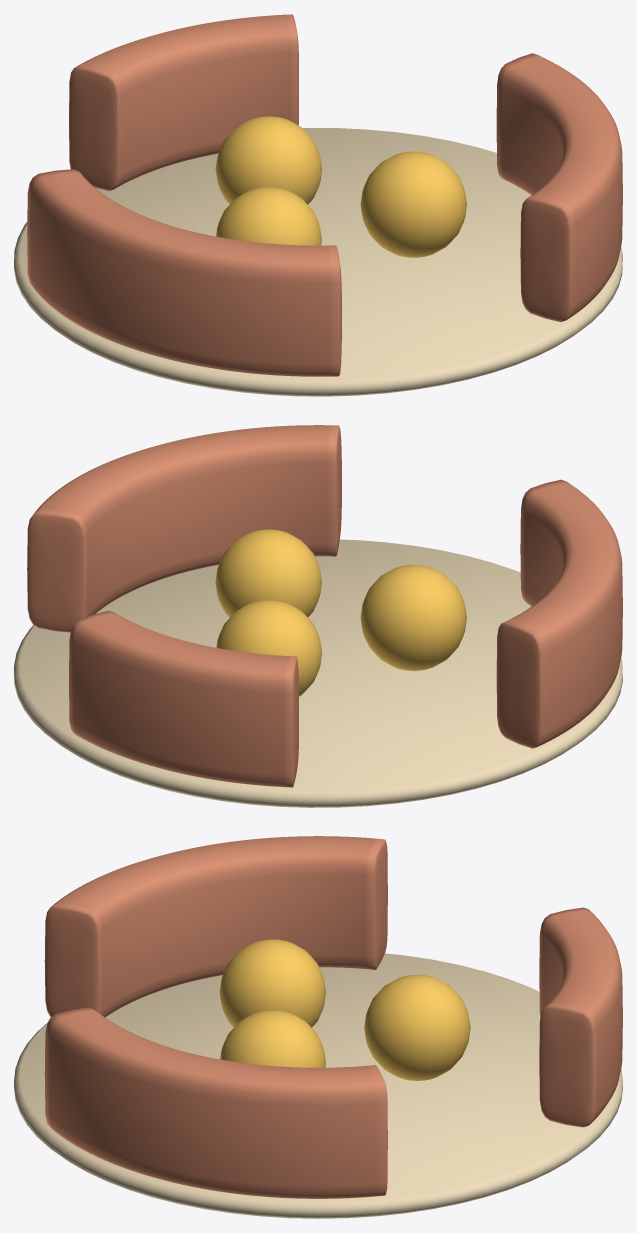
Rendered from building_bowl_v03_display.glb.
3 renders of one model, top to bottom at view 1: azimuth 30°, elevation 25°; view 2: azimuth 150°, elevation 25°; view 3: azimuth 270°, elevation 25°, orthographic.
Visible parts, largest first — view 1: bowl_floor, bowl_rim_b, bowl_rim_a, bowl_rim_c, display_energy_mote_b, display_energy_mote_c, display_energy_mote_a; view 2: bowl_floor, bowl_rim_c, bowl_rim_a, bowl_rim_b, display_energy_mote_a, display_energy_mote_b, display_energy_mote_c; view 3: bowl_floor, bowl_rim_c, bowl_rim_b, bowl_rim_a, display_energy_mote_c, display_energy_mote_a, display_energy_mote_b.
Boxes of the visible parts, bbox=[...] form: bowl_floor: bbox=[14, 128, 622, 396]; bowl_rim_b: bbox=[27, 169, 341, 376]; bowl_rim_a: bbox=[69, 14, 298, 190]; bowl_rim_c: bbox=[496, 53, 622, 321]; display_energy_mote_b: bbox=[360, 151, 466, 257]; display_energy_mote_c: bbox=[215, 116, 322, 204]; display_energy_mote_a: bbox=[216, 187, 321, 245]; bowl_floor: bbox=[14, 539, 622, 807]; bowl_rim_c: bbox=[27, 425, 341, 632]; bowl_rim_a: bbox=[69, 611, 298, 787]; bowl_rim_b: bbox=[496, 479, 622, 748]; display_energy_mote_a: bbox=[360, 564, 466, 670]; display_energy_mote_b: bbox=[215, 529, 321, 617]; display_energy_mote_c: bbox=[216, 600, 322, 696]; bowl_floor: bbox=[14, 953, 622, 1218]; bowl_rim_c: bbox=[44, 1007, 387, 1198]; bowl_rim_b: bbox=[44, 836, 387, 1017]; bowl_rim_a: bbox=[539, 907, 622, 1127]; display_energy_mote_c: bbox=[364, 974, 470, 1080]; display_energy_mote_a: bbox=[219, 939, 325, 1027]; display_energy_mote_b: bbox=[220, 1010, 325, 1067].
Bounding box in the file's own units: 4 × 0.97 × 4.
